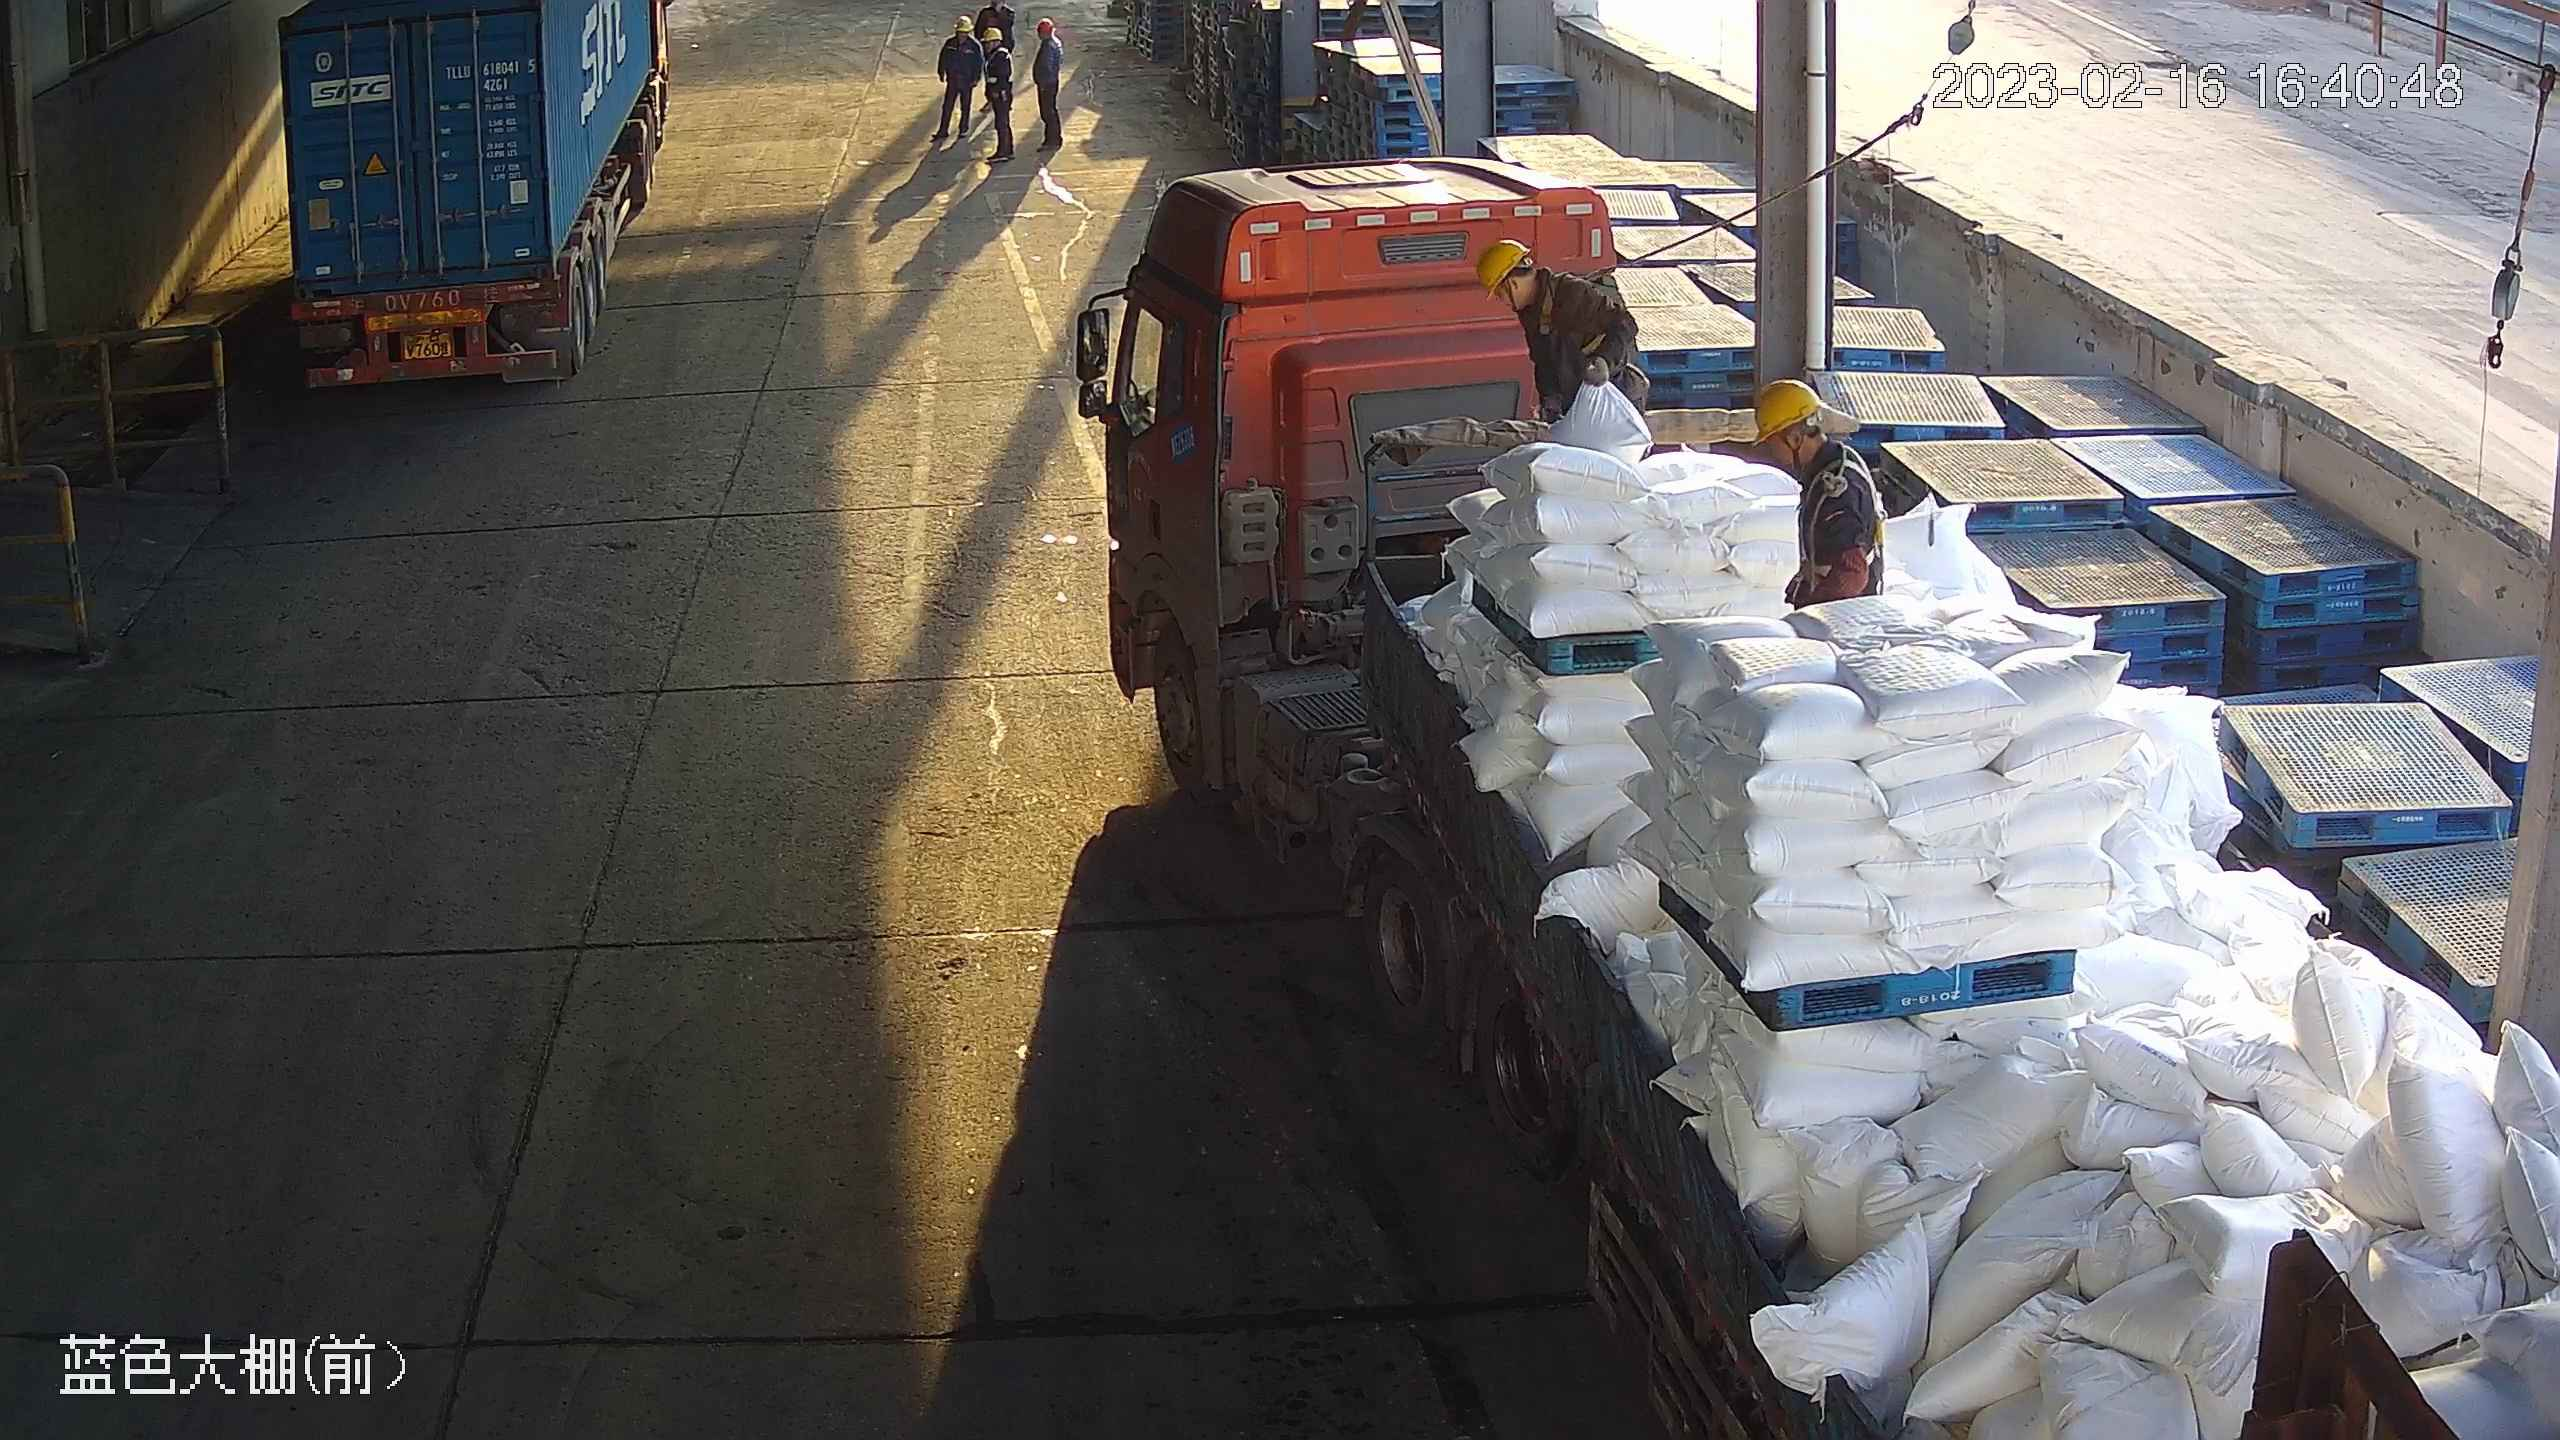belt: (1815, 446, 1889, 552)
head: (1749, 376, 1894, 558), (1475, 239, 1641, 379), (938, 14, 983, 62), (1029, 16, 1063, 65), (982, 27, 1015, 80)
helmet: (1753, 378, 1822, 444), (1475, 237, 1534, 300), (954, 16, 976, 34), (981, 27, 1003, 42), (1036, 18, 1056, 31)
people: (932, 15, 983, 142), (980, 25, 1016, 162), (1029, 17, 1064, 152)
truck: (276, 3, 669, 386)
